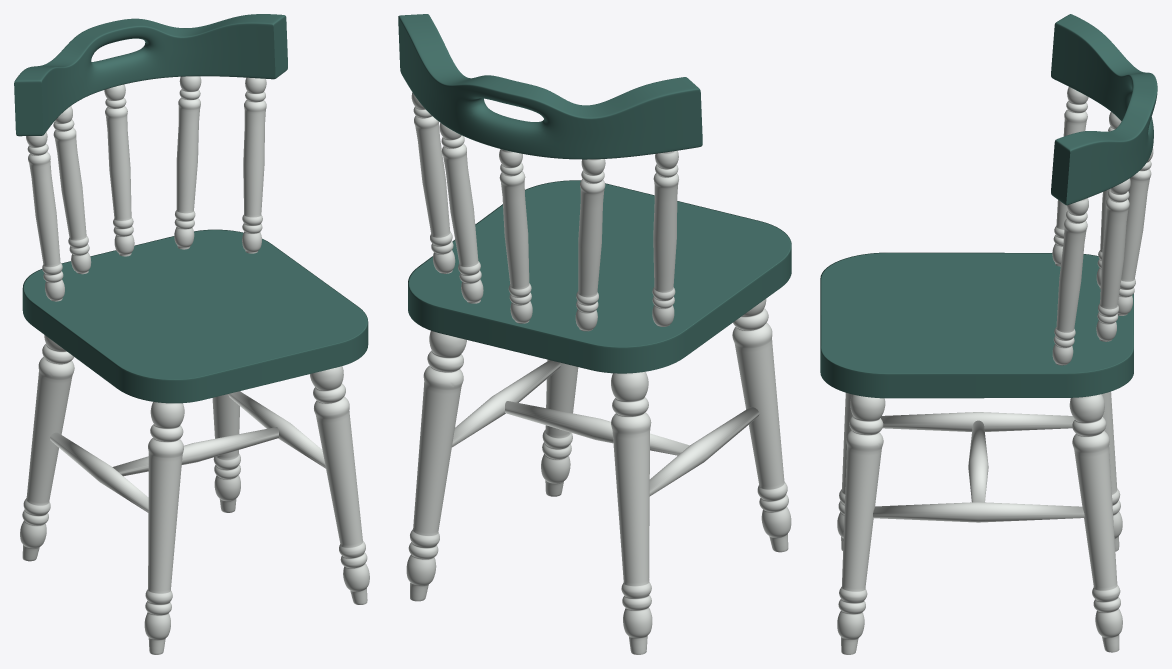
File: Dining  Chair.fbx
3 views of the same model, side by side, from view 1: azimuth 30°, elevation 25°; view 2: azimuth 150°, elevation 25°; view 3: azimuth 270°, elevation 25° (orthographic). The views are drawn at different scales.
Visible parts, largest first — view 1: Back Rest Upright 1; view 2: Back Rest Upright 1; view 3: Back Rest Upright 1.
Part boxes in pixels (x1,y1,x2,y2): Back Rest Upright 1: [14, 14, 369, 654]; Back Rest Upright 1: [398, 14, 791, 654]; Back Rest Upright 1: [820, 14, 1157, 654].
Size of the model in its own units: 47.15 by 83.07 by 48.89.
